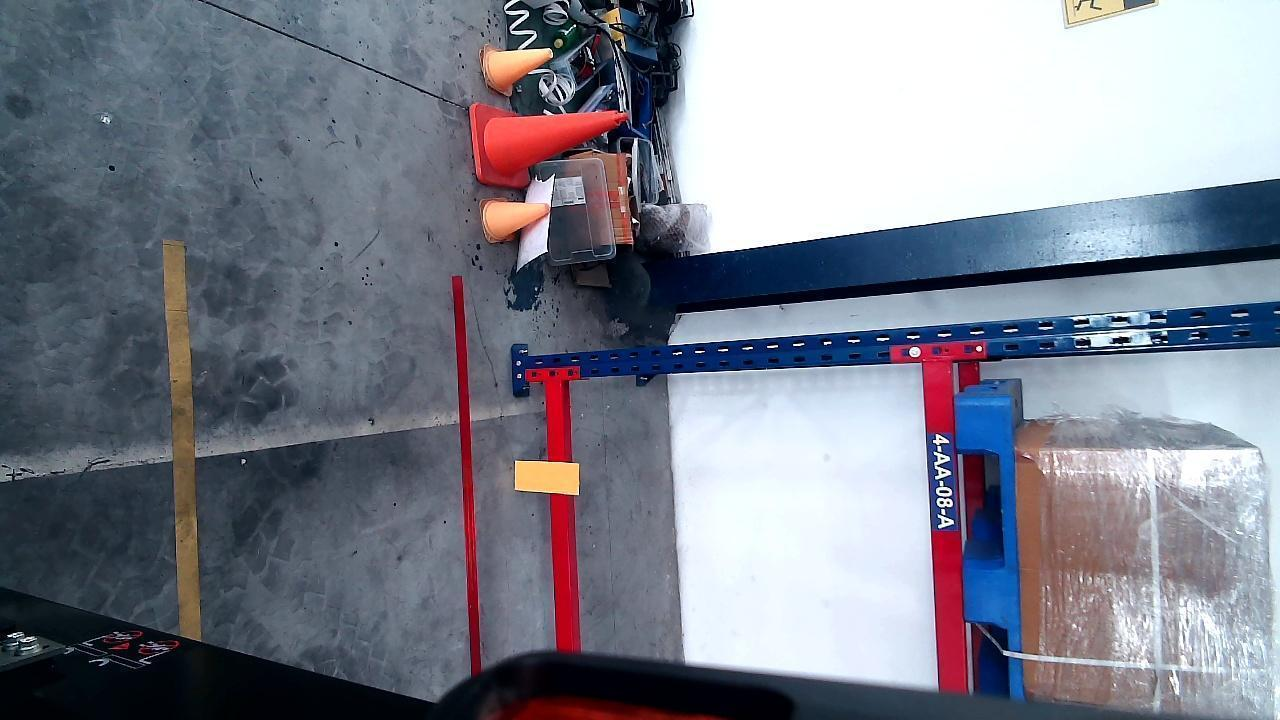red_line: (455, 276, 480, 679)
yellow_line: (169, 234, 200, 639)
